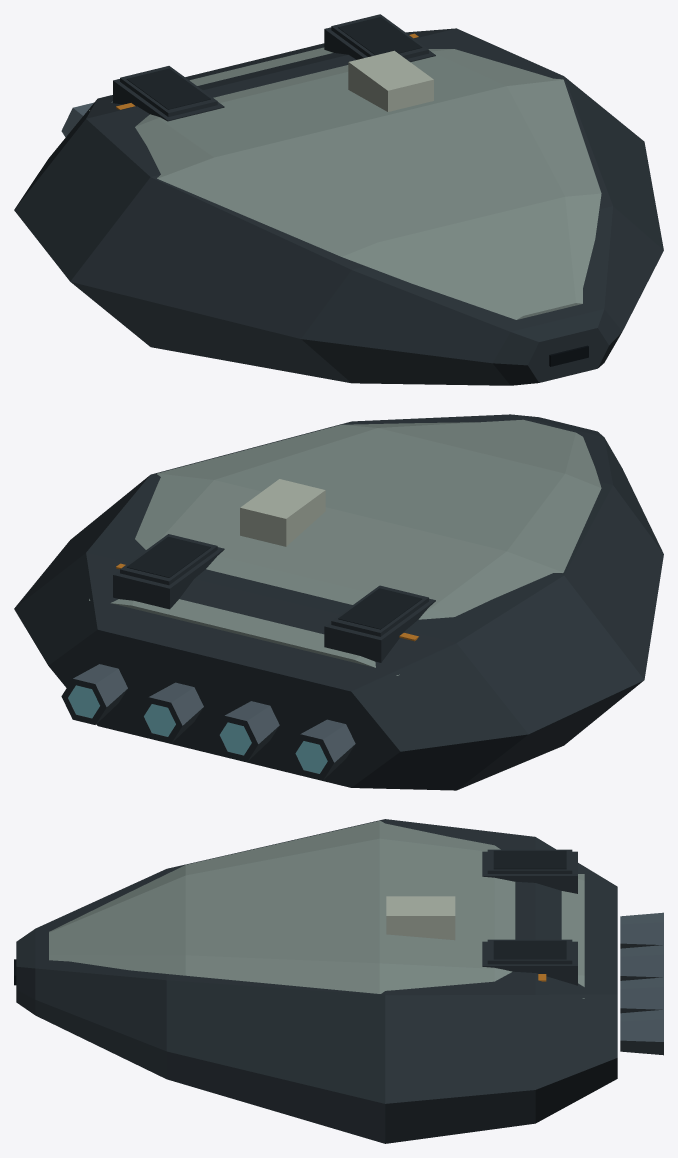
Rendered from battleship-low.glb.
3 views of the same model, one above another, from view 1: azimuth 30°, elevation 25°; view 2: azimuth 150°, elevation 25°; view 3: azimuth 270°, elevation 25° (orthographic). The views are drawn at different scales.
Parts seen in each view (by area): view 1: AV_battleship-low; view 2: AV_battleship-low; view 3: AV_battleship-low.
Boxes of the visible parts, x1=… form: AV_battleship-low: x1=14, y1=14, x2=663, y2=385; AV_battleship-low: x1=14, y1=414, x2=663, y2=790; AV_battleship-low: x1=14, y1=819, x2=663, y2=1143.
Size of the model in its own units: 1.66 by 0.579 by 1.87.
Materials: 1 (1 with a texture image).
